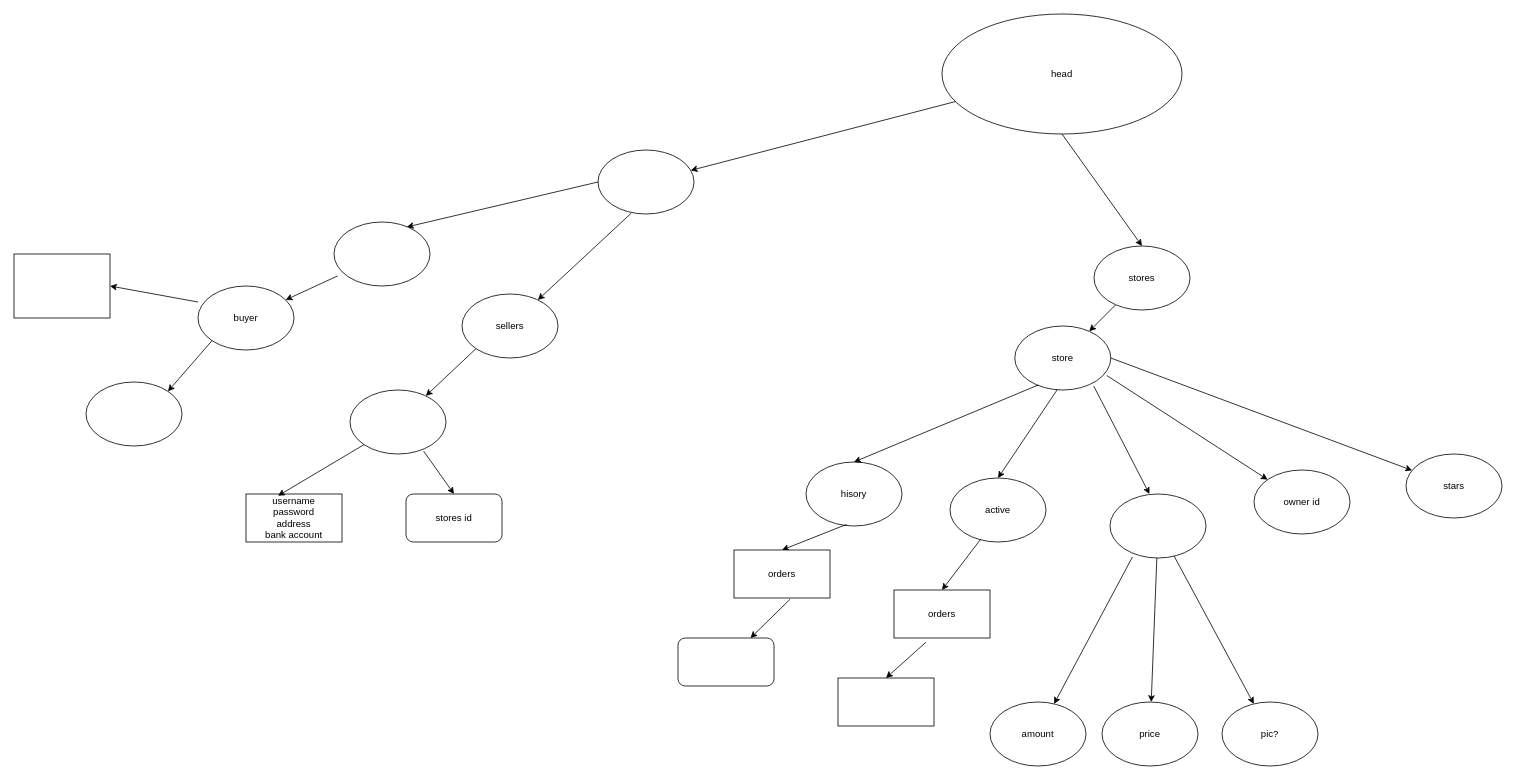
The diagram is 1516 pixels wide and 780 high, and some of its shapes have lost their labels. The centre of each missing label's shape, as x and y in pixels:
buyers: the point at 381,253
order details...: the point at 725,661
orders details...: the point at 885,701
products: the point at 1157,525
seller: the point at 397,421
shopping cart: the point at 133,413
username password address visa: the point at 61,285
users: the point at 645,181
